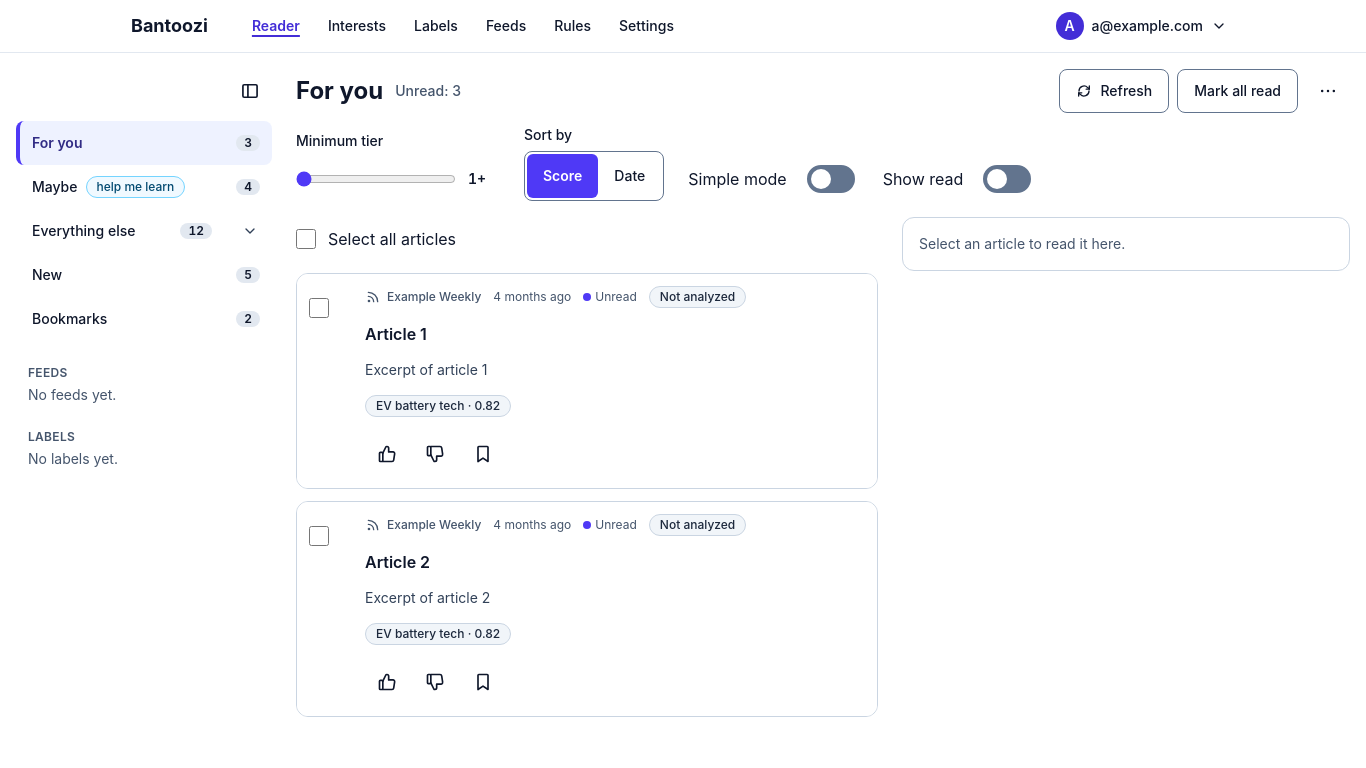
Test: the entries › word opening an article as marking it read, with its title
Click the button "Article 2": (398, 562) [365,540,865,584]
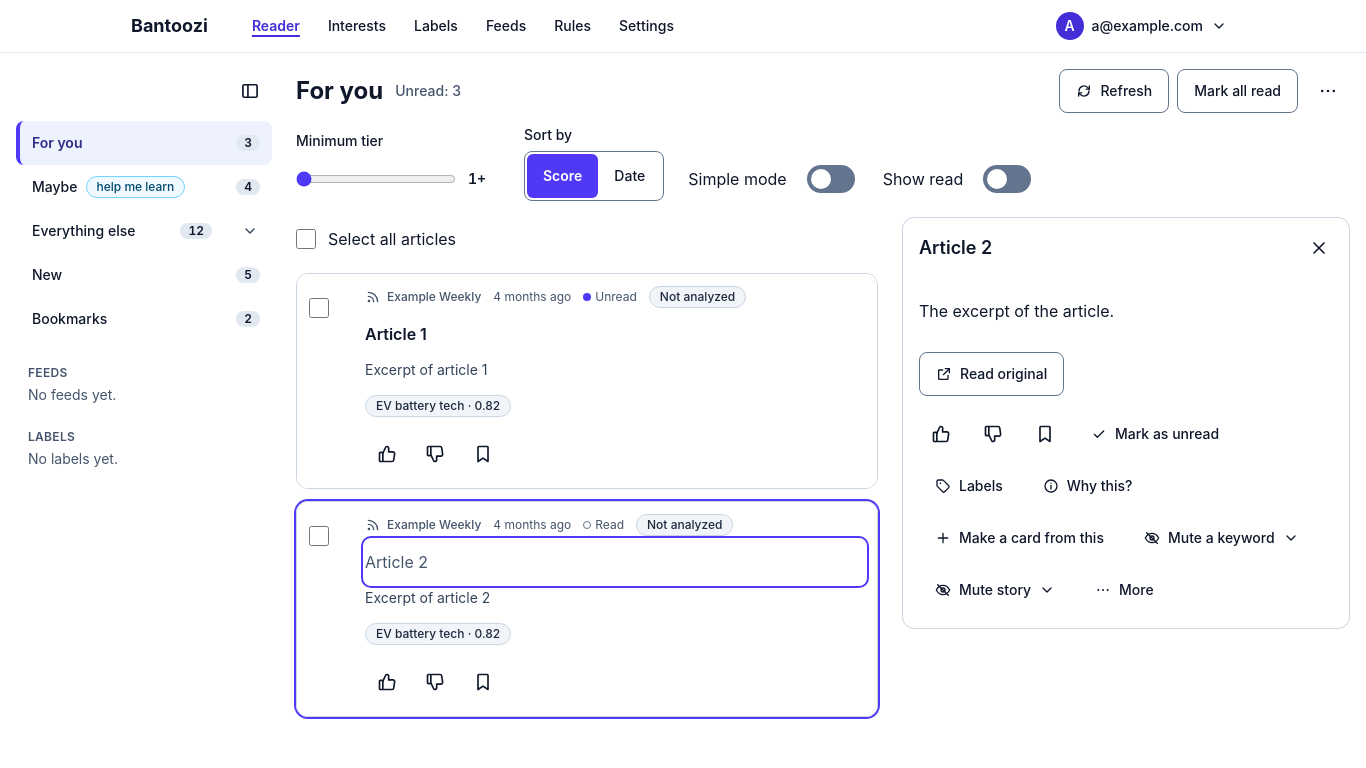
Click the button named "More": (1328, 91) [1306,69,1350,113]
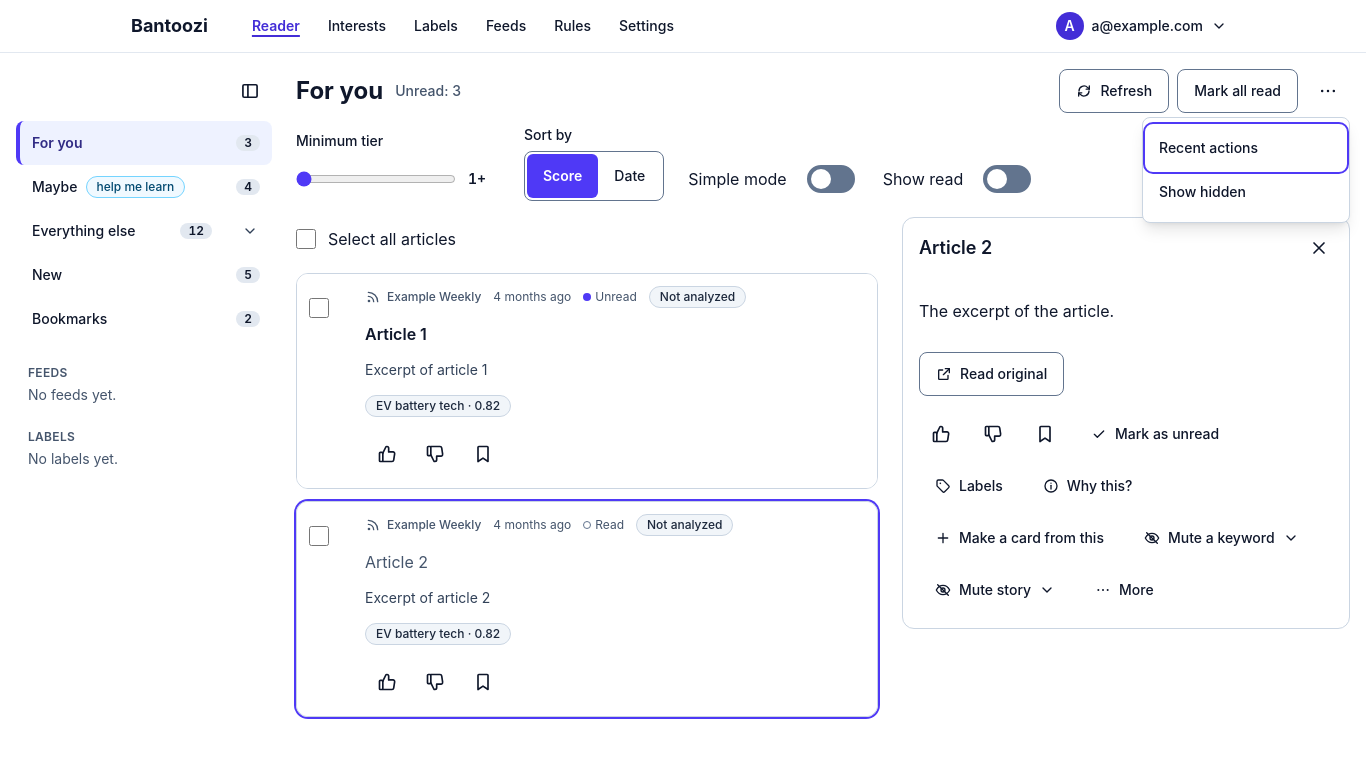
Click the menu item "Recent actions": (1246, 148) [1147,126,1345,170]
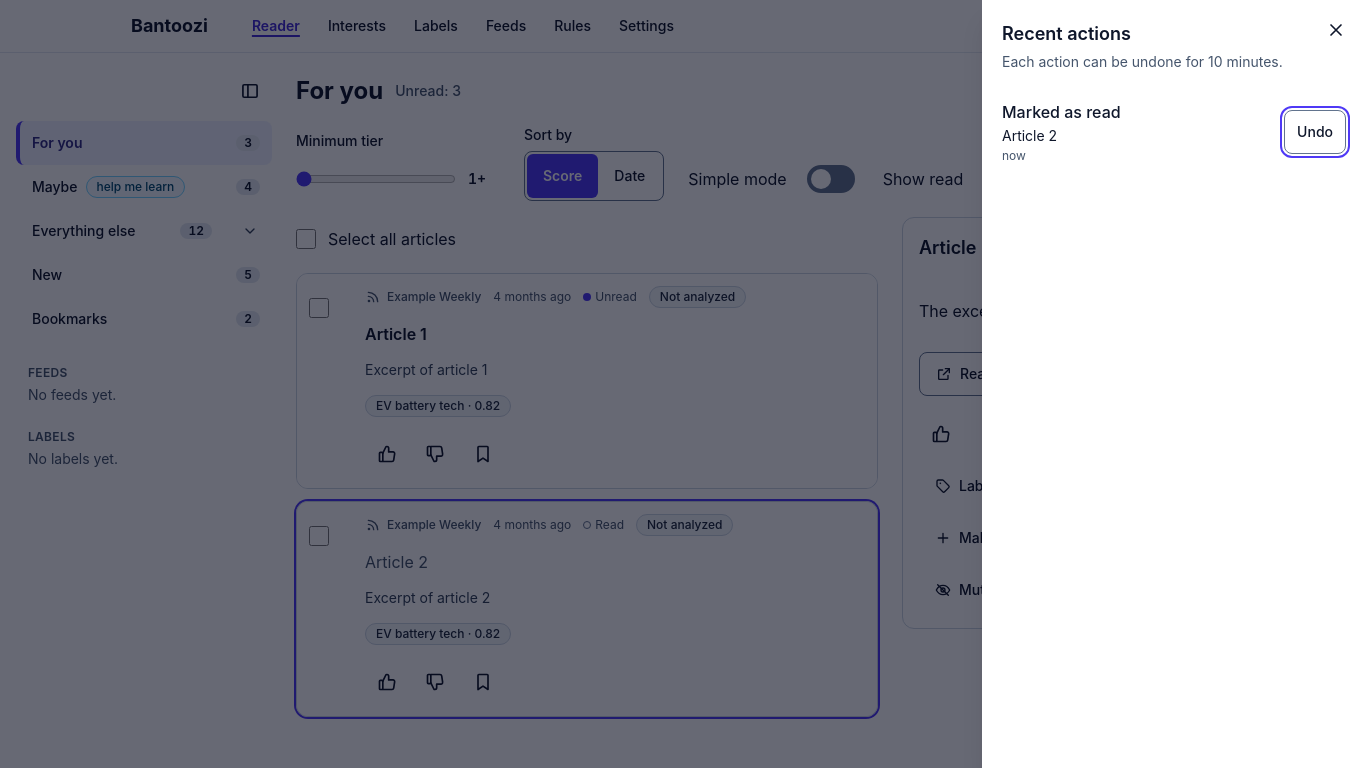
Expected: the text "Marked as read" is shown, [1002,100,1121,124]
Expected: the text "Article 2" is shown, [1002,127,1057,144]
